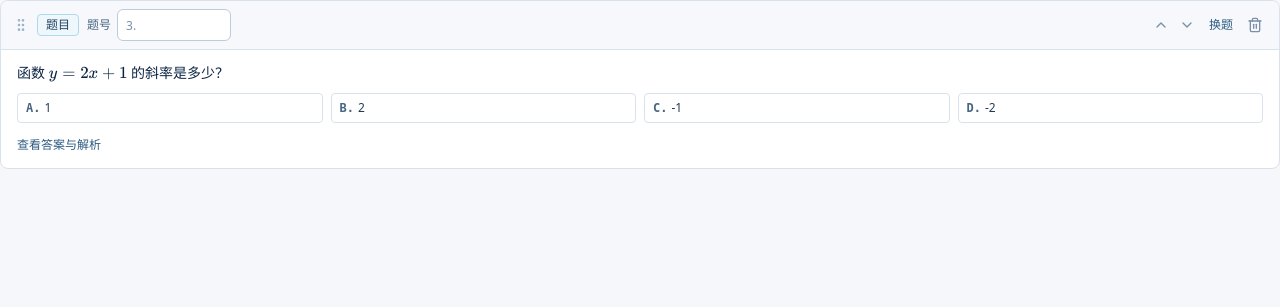
Test: LectureSectionEditorRow › expands the answer and analysis
Click the button "查看答案与解析": (59, 145) [17, 137, 101, 153]
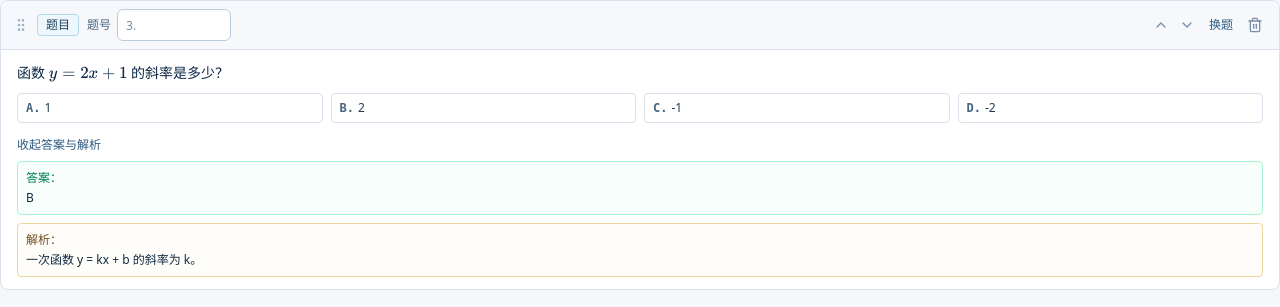
Check: the text "一次函数" is shown, box [26, 251, 202, 268]
Check: the text "的斜率为 k。" is shown, box [26, 251, 202, 268]
